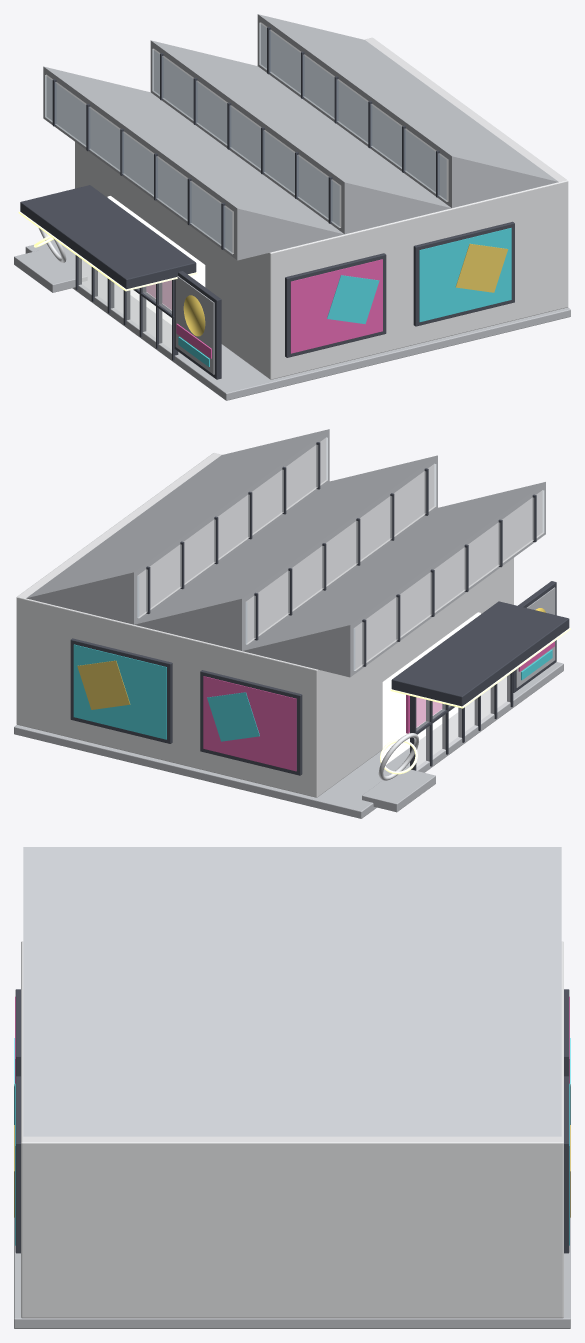
The model's file is building_wynwood_gallery.glb.
3 renders of one model, top to bottom at view 1: azimuth 30°, elevation 25°; view 2: azimuth 150°, elevation 25°; view 3: azimuth 270°, elevation 25°, orthographic. The views are drawn at different scales.
Visible parts, largest first — view 1: MuseumPlinth; view 2: MuseumPlinth; view 3: MuseumPlinth.
Boxes of the visible parts, <box> form: MuseumPlinth: <box>14,14,570,400</box>; MuseumPlinth: <box>14,429,570,818</box>; MuseumPlinth: <box>14,847,570,1328</box>.
Size of the model in its own units: 27.27 by 12.2 by 23.8.
